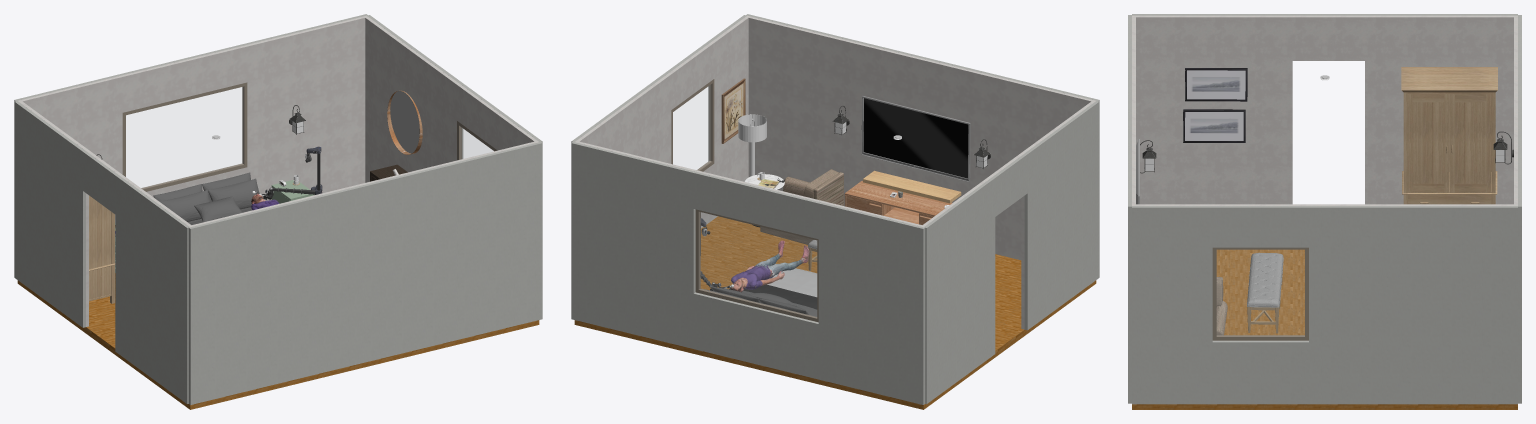
The picture shows the model from 3 angles, left to right: view 1: azimuth 30°, elevation 25°; view 2: azimuth 150°, elevation 25°; view 3: azimuth 270°, elevation 25°; orthographic projection. The views are drawn at different scales.
Parts seen in each view (by area): view 1: world (×10), glass (×2), room_geometry_bedroom__v0, Shader1.001, frame; view 2: world (×13), glass (×2), room_geometry_bedroom__v0, frame (×2), Oak_Porto, Shader1.001, base_link; view 3: world (×13), Shader1.001, glass, room_geometry_bedroom__v0, frame.
Boxes of the visible parts, x1,y1,x2,y2 form: world (×10): (14, 14, 542, 404); glass (×2): (126, 87, 493, 188); room_geometry_bedroom__v0: (17, 273, 539, 409); Shader1.001: (89, 195, 115, 303); frame: (122, 82, 247, 191); world (×13): (571, 14, 1099, 404); glass (×2): (673, 85, 816, 317); room_geometry_bedroom__v0: (574, 216, 1096, 409); frame (×2): (671, 79, 818, 322); Oak_Porto: (863, 170, 961, 203); Shader1.001: (721, 78, 745, 143); base_link: (731, 264, 773, 289); world (×13): (1128, 14, 1521, 404); Shader1.001: (1401, 67, 1497, 204); glass: (1217, 250, 1304, 335); room_geometry_bedroom__v0: (1132, 249, 1517, 409); frame: (1212, 247, 1308, 340).
Bounding box in the file's own units: 5.7 × 2.8 × 4.9.
Materials: 61 (36 with a texture image).
